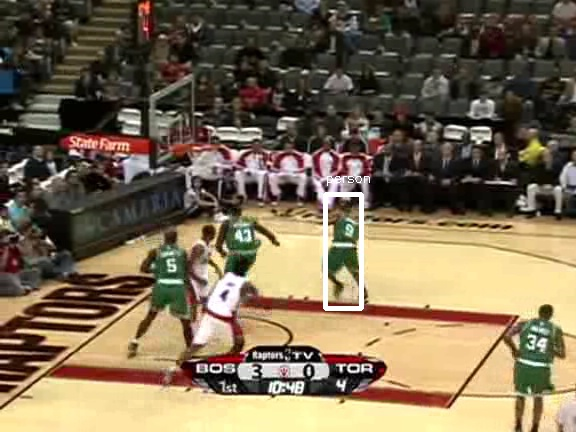person: (328, 203, 362, 284), (327, 203, 361, 284), (329, 203, 363, 284), (328, 202, 362, 283), (328, 204, 362, 285)
target_negative: (77, 292, 440, 309), (54, 364, 471, 374), (469, 229, 492, 382), (488, 242, 574, 281), (458, 103, 492, 183), (54, 429, 229, 431)
